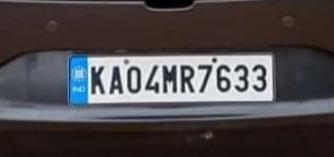0: (127, 65, 142, 95)
3: (251, 63, 268, 94), (234, 63, 250, 94)
4: (143, 61, 161, 97)
6: (215, 64, 233, 93)
7: (196, 62, 214, 96)
A: (108, 63, 124, 96)
K: (88, 63, 105, 96)
M: (160, 62, 178, 95)
R: (179, 63, 195, 95)
